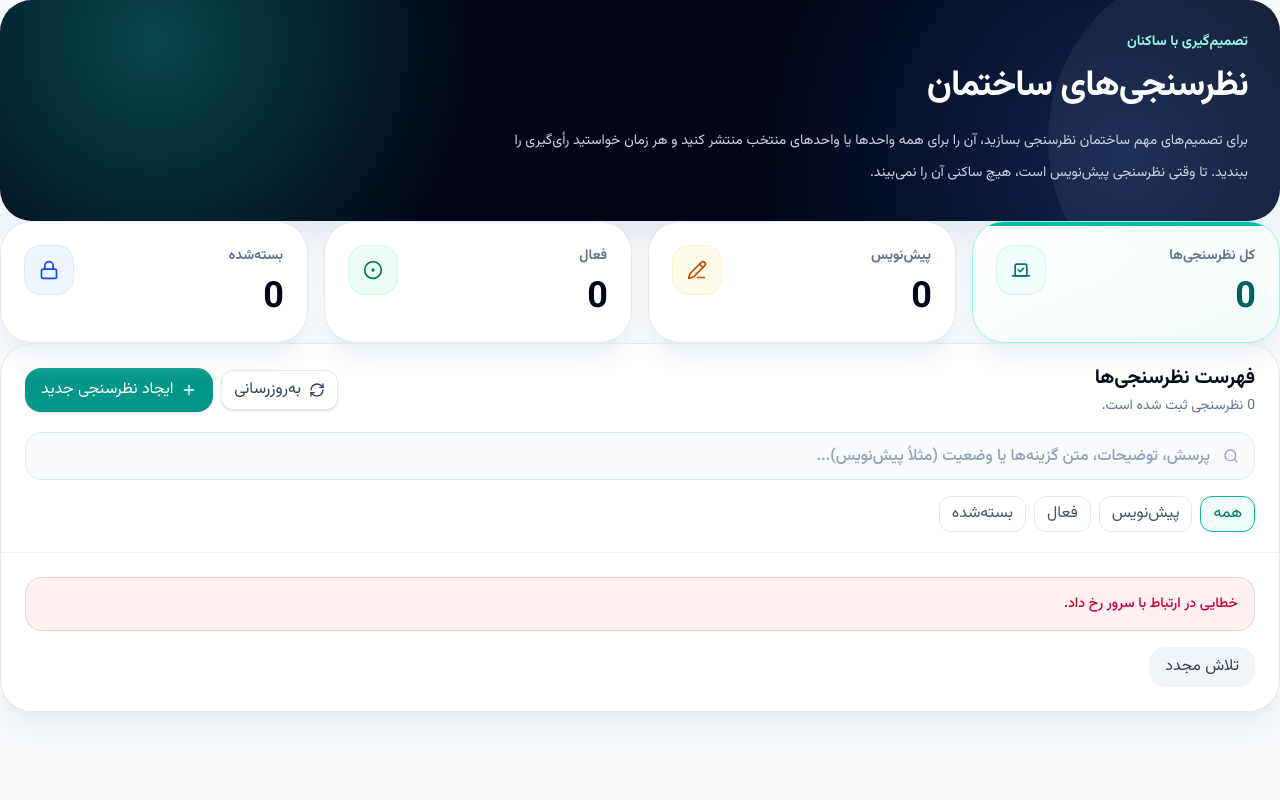
Test case: PollsSection › surfaces a failed load with a retry
Check: the text "خطایی در ارتباط با سرور رخ داد." is shown, box [25,577,1255,631]
Step 1. Click the button "تلاش مجدد" → (1202, 667), box [1149,647,1255,687]
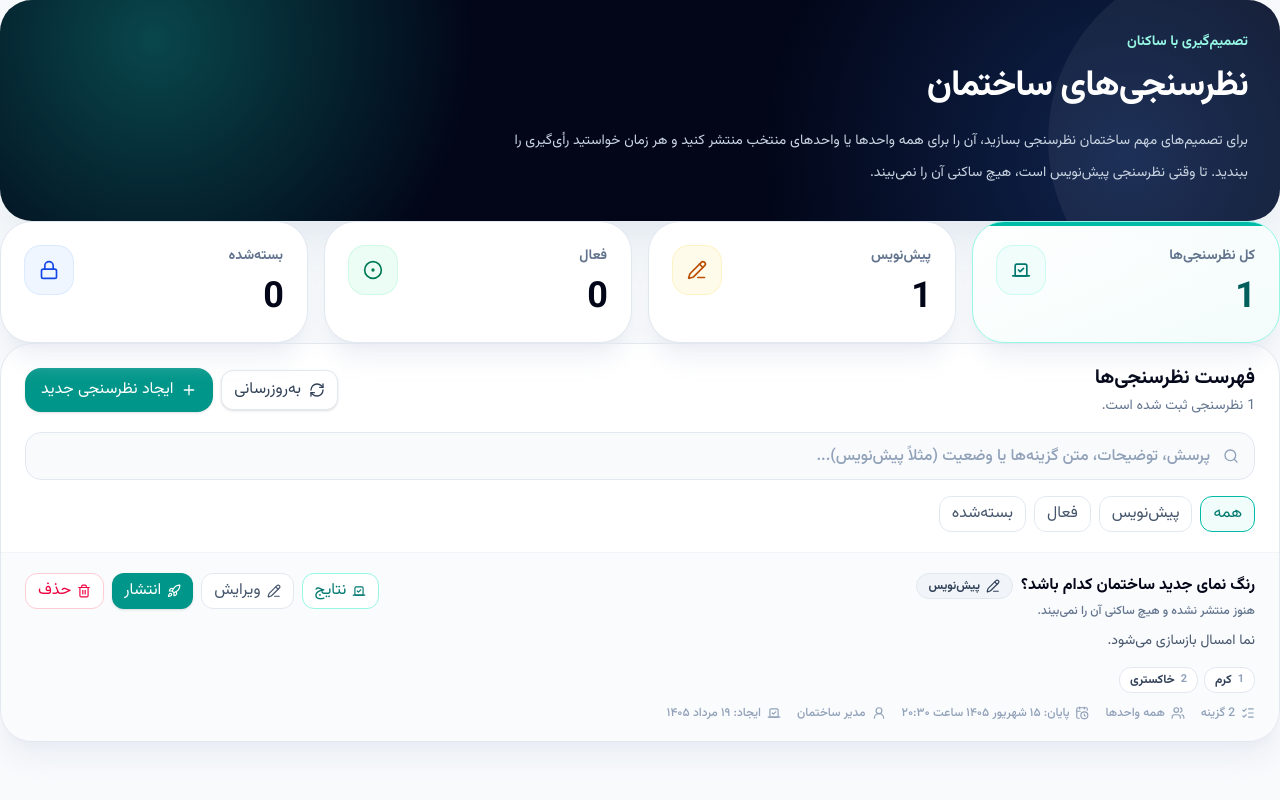
Check: the heading "رنگ نمای جدید ساختمان کدام باشد؟" is shown, box [1021,574,1255,598]
